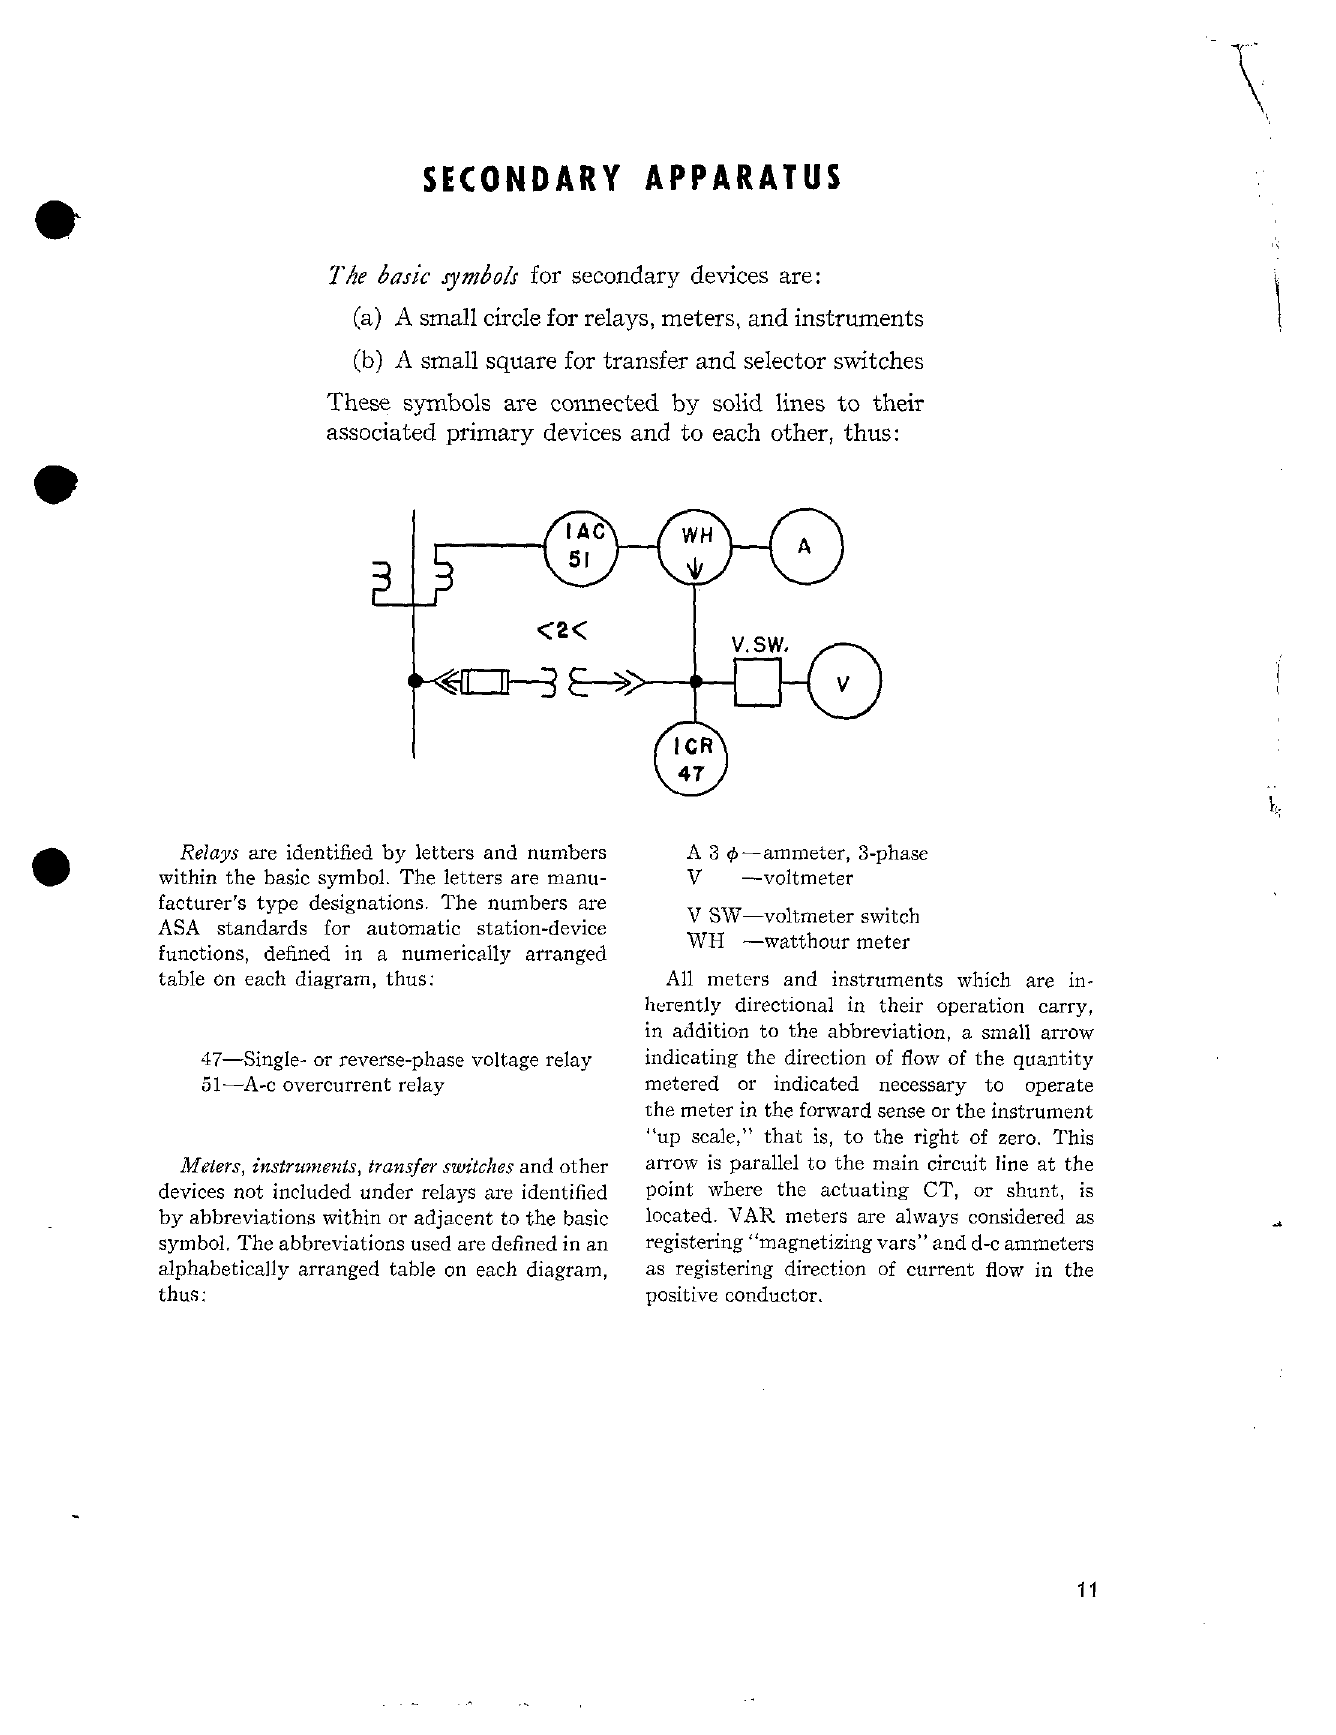fuse: (443, 651, 519, 709)
transformer: (522, 650, 603, 710)
